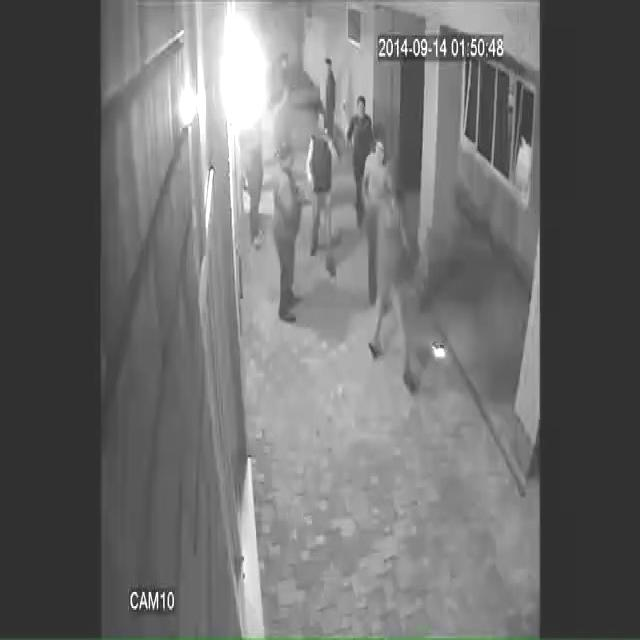fight: (352, 117, 437, 421)
